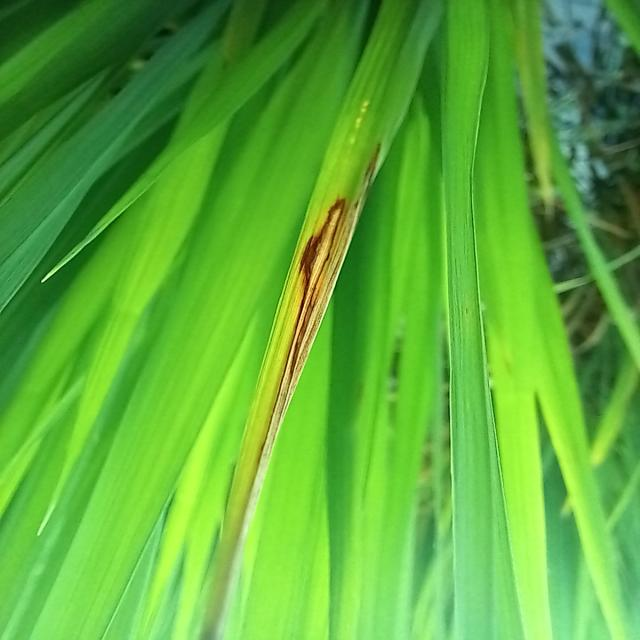Rice Tungro: (248, 148, 377, 476)
